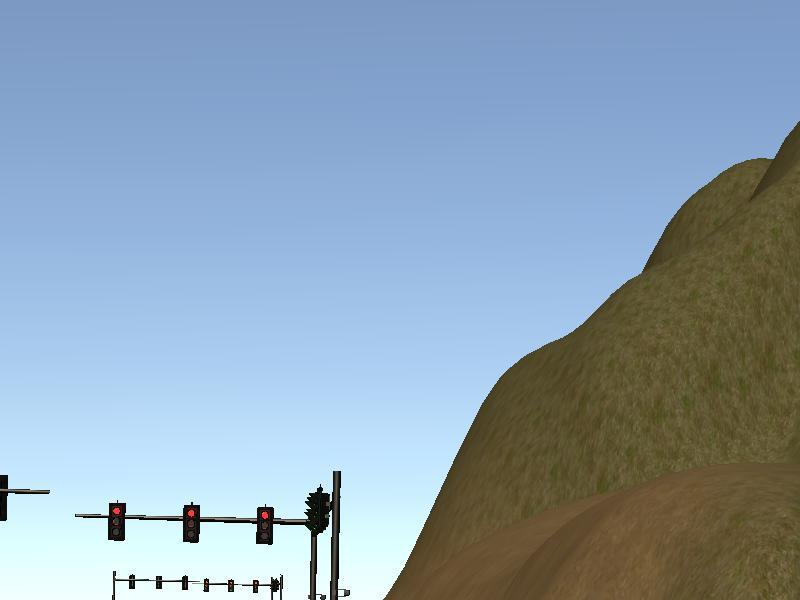Red: (108, 503, 124, 542), (256, 507, 272, 546), (183, 504, 199, 543)
